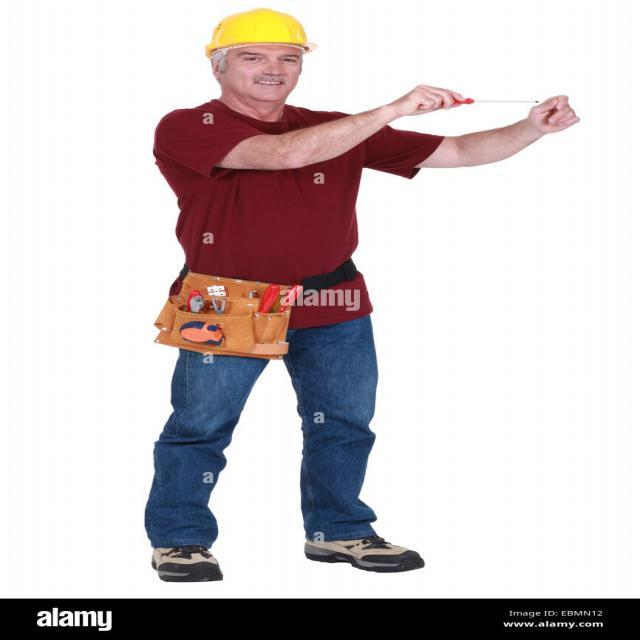screwdriver: (413, 94, 548, 115)
